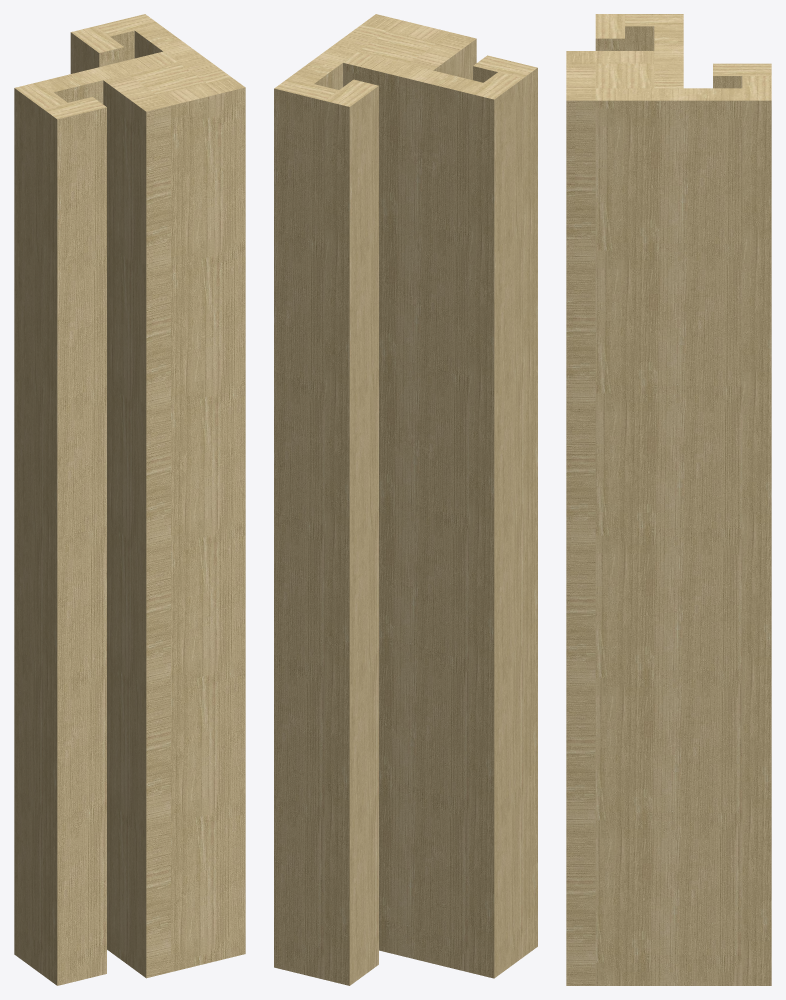
3 views of the same model, side by side, from view 1: azimuth 30°, elevation 25°; view 2: azimuth 150°, elevation 25°; view 3: azimuth 270°, elevation 25° (orthographic). The views are drawn at different scales.
Visible parts, largest first — view 1: Geom3D (×10); view 2: Geom3D (×10); view 3: Geom3D (×10).
Boxes of the visible parts, x1=… form: Geom3D (×10): x1=14, y1=14, x2=245, y2=985; Geom3D (×10): x1=274, y1=14, x2=537, y2=985; Geom3D (×10): x1=566, y1=14, x2=771, y2=985.
Size of the model in its own units: 0.126 by 0.6 by 0.126.
Materials: 1 (1 with a texture image).
